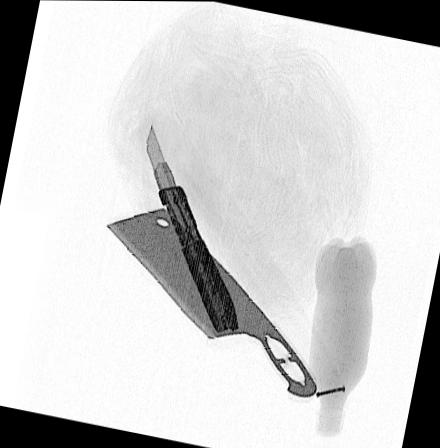Knife: (104, 206, 317, 397), (144, 121, 239, 332)
